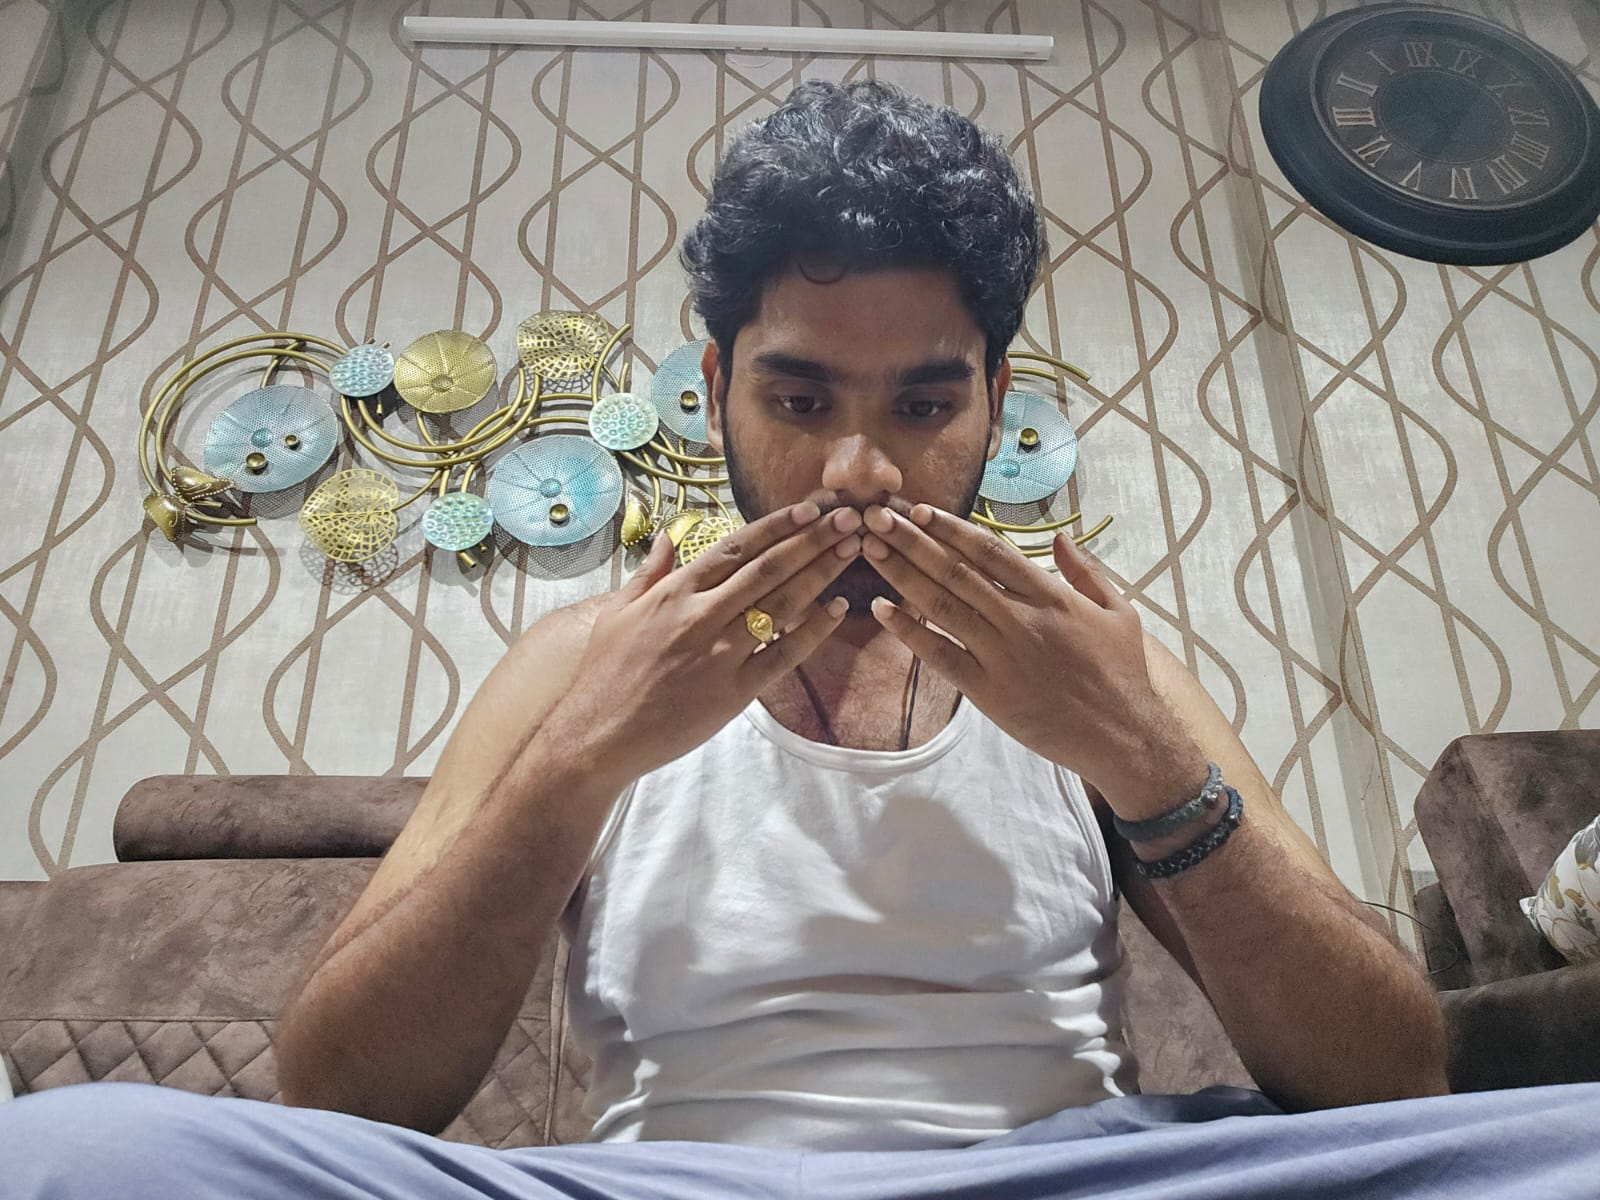thank you: (546, 499, 1164, 766)
